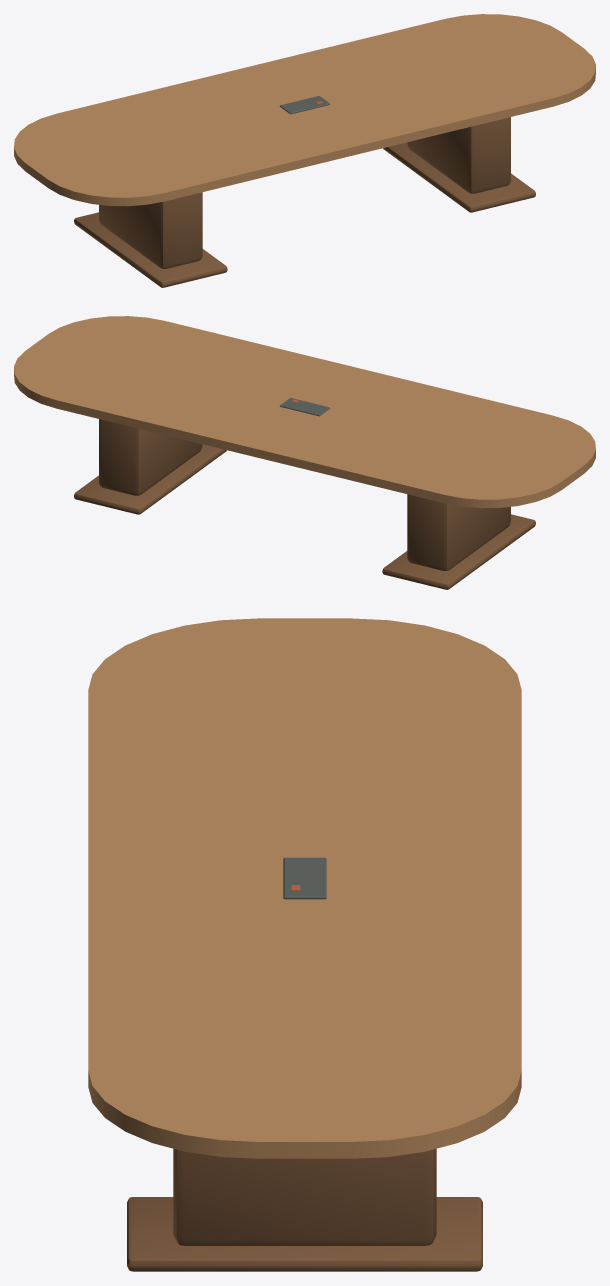
The model's file is meeting_table.glb.
3 views of the same model, one above another, from view 1: azimuth 30°, elevation 25°; view 2: azimuth 150°, elevation 25°; view 3: azimuth 270°, elevation 25° (orthographic). The views are drawn at different scales.
Visible parts, largest first — view 1: FURN-meeting_table; view 2: FURN-meeting_table; view 3: FURN-meeting_table.
Part boxes in pixels (box(x1,y1,x2,y2)): FURN-meeting_table: box(14, 14, 595, 287); FURN-meeting_table: box(14, 316, 595, 589); FURN-meeting_table: box(88, 618, 521, 1271).
Size of the model in its own units: 4 by 0.766 by 1.4.
